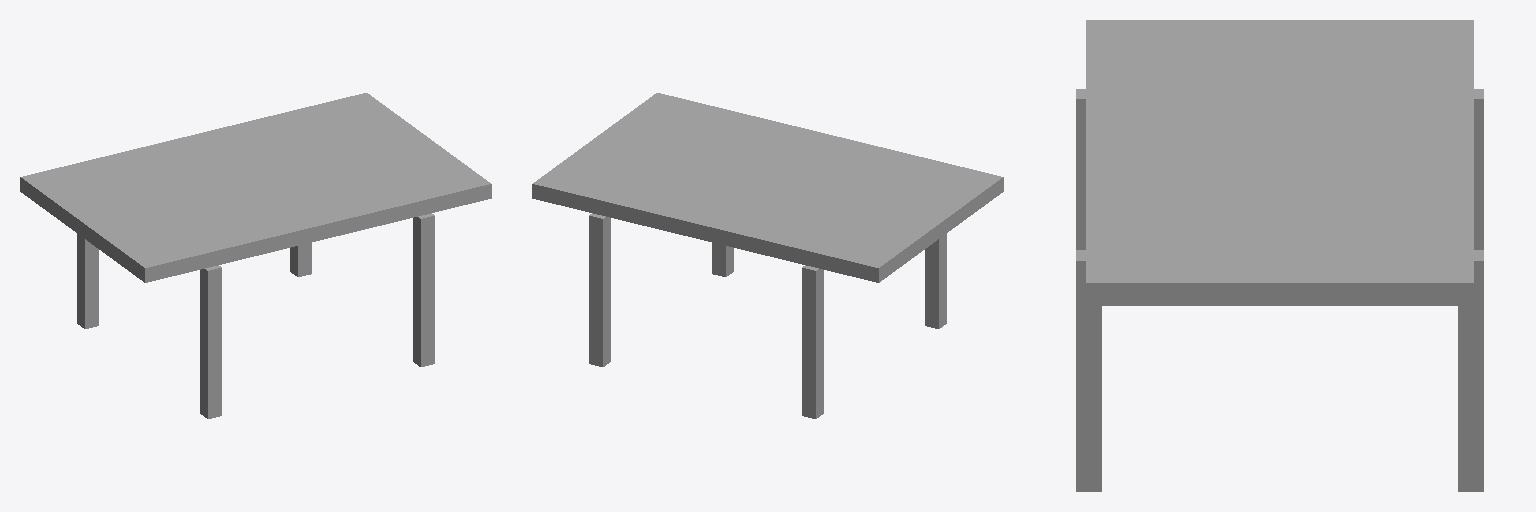
The robot description file, URDF, robot "table":
<?xml version='1.0' encoding='UTF-8'?>
<robot xmlns:drake="http://drake.mit.edu" name="table">
  <material name="Brown">
    <color rgba="0.75 0.6 0.5 0.8"/>
  </material>
  <material name="White">
    <color rgba="1 1 1 1"/>
  </material>
  <material name="LightGrey">
    <color rgba=".7 .7 .7 1"/>
  </material>
  <material name="Grey">
    <color rgba=".3 .3 .3 1"/>
  </material>
  <material name="Red">
    <color rgba="1 0 0 1"/>
  </material>

  <link name="TableTop">
    <inertial>
      <mass value=".5"/>
      <origin xyz="0 0 0" rpy="0 0 0"/>
      <inertia ixx="10" ixy="0" ixz="0" iyy="10" iyz="0" izz="10"/>
    </inertial>
    <visual>
      <origin xyz="0 0 -0.025" rpy="0 0 0"/>
      <geometry>
        <box size="1.22 0.761 .05"/>
      </geometry>
      <material name="LightGrey"/>
    </visual>
    <collision>
      <origin xyz="0 0 -0.025" rpy="0 0 0"/>
      <geometry>
        <box size="1.22 0.761 .05"/>
      </geometry>
      <material name="LightGrey"/>
      <drake:proximity_properties>
        <drake:rigid_hydroelastic/>
        <drake:hunt_crossley_dissipation value="1.25"/>
        <drake:mesh_resolution_hint value="0.005"/>
        <!-- Both mu_dynamic and mu_static are used in Continuous system.
          Only mu_dynamic is used in Discrete system.
        -->
        <drake:mu_dynamic value="0.5"/>
        <drake:mu_static value="0.5"/>
      </drake:proximity_properties>
    </collision>    
  </link>

  <link name="tableLegUL">
    <inertial>
      <mass value=".5"/>
      <origin xyz="0 0 0" rpy="0 0 0"/>
      <inertia ixx="10" ixy="0" ixz="0" iyy="10" iyz="0" izz="10"/>
    </inertial>
    <visual>
      <origin xyz="0 0 -0.25" rpy="0 0 0"/>
      <geometry>
        <box size=".05 .05 .5"/>
      </geometry>
      <material name="LightGrey"/>
    </visual>
    <collision>
      <origin xyz="0 0 -0.25" rpy="0 0 0"/>
      <geometry>
        <box size=".05 .05 .5"/>
      </geometry>
      <material name="LightGrey"/>
      <drake:proximity_properties>
        <drake:compliant_hydroelastic/>
        <drake:mesh_resolution_hint value="0.005"/>
        <drake:hydroelastic_modulus value="1e5"/>
        <drake:hunt_crossley_dissipation value="1.0"/>
        <drake:mesh_resolution_hint value="0.005"/>
        <!-- Both mu_dynamic and mu_static are used in Continuous system.
          Only mu_dynamic is used in Discrete system.
        -->
        <drake:mu_dynamic value="0.5"/>
        <drake:mu_static value="0.5"/>
      </drake:proximity_properties>
    </collision>
  </link>

  <link name="tableLegUR">
    <inertial>
      <mass value=".5"/>
      <origin xyz="0 0 0" rpy="0 0 0"/>
      <inertia ixx="10" ixy="0" ixz="0" iyy="10" iyz="0" izz="10"/>
    </inertial>
    <visual>
      <origin xyz="0 0 -0.25" rpy="0 0 0"/>
      <geometry>
        <box size=".05 .05 .5"/>
      </geometry>
      <material name="LightGrey"/>
    </visual>
    <collision>
      <origin xyz="0 0 -0.25" rpy="0 0 0"/>
      <geometry>
        <box size=".05 .05 .5"/>
      </geometry>
      <material name="LightGrey"/>
      <drake:proximity_properties>
        <drake:compliant_hydroelastic/>
        <drake:mesh_resolution_hint value="0.005"/>
        <drake:hydroelastic_modulus value="1e5"/>
        <drake:hunt_crossley_dissipation value="1.0"/>
        <drake:mesh_resolution_hint value="0.005"/>
        <!-- Both mu_dynamic and mu_static are used in Continuous system.
          Only mu_dynamic is used in Discrete system.
        -->
        <drake:mu_dynamic value="0.5"/>
        <drake:mu_static value="0.5"/>
      </drake:proximity_properties>
    </collision>
  </link>

  <link name="tableLegLR">
    <inertial>
      <mass value=".5"/>
      <origin xyz="0 0 0" rpy="0 0 0"/>
      <inertia ixx="10" ixy="0" ixz="0" iyy="10" iyz="0" izz="10"/>
    </inertial>
    <visual>
      <origin xyz="0 0 -.25" rpy="0 0 0"/>
      <geometry>
        <box size=".05 .05 .5"/>
      </geometry>
      <material name="LightGrey"/>
    </visual>
    <collision>
      <origin xyz="0 0 -.25" rpy="0 0 0"/>
      <geometry>
        <box size=".05 .05 .5"/>
      </geometry>
      <material name="LightGrey"/>
      <drake:proximity_properties>
        <drake:compliant_hydroelastic/>
        <drake:mesh_resolution_hint value="0.005"/>
        <drake:hydroelastic_modulus value="1e5"/>
        <drake:hunt_crossley_dissipation value="10.0"/>
        <drake:mesh_resolution_hint value="0.005"/>
        <!-- Both mu_dynamic and mu_static are used in Continuous system.
          Only mu_dynamic is used in Discrete system.
        -->
        <drake:mu_dynamic value="0.5"/>
        <drake:mu_static value="0.5"/>
      </drake:proximity_properties>
    </collision>
  </link>  

  <link name="tableLegLL">
    <inertial>
      <mass value=".5"/>
      <origin xyz="0 0 0" rpy="0 0 0"/>
      <inertia ixx="10" ixy="0" ixz="0" iyy="10" iyz="0" izz="10"/>
    </inertial>
    <visual>
      <origin xyz="0 0 -0.25" rpy="0 0 0"/>
      <geometry>
        <box size=".05 .05 .5"/>
      </geometry>
      <material name="LightGrey"/>
    </visual>
    <collision>
      <origin xyz="0 0 -.25" rpy="0 0 0"/>
      <geometry>
        <box size=".05 .05 .5"/>
      </geometry>
      <material name="LightGrey"/>
      <drake:proximity_properties>
        <drake:compliant_hydroelastic/>
        <drake:mesh_resolution_hint value="0.005"/>
        <drake:hydroelastic_modulus value="1e5"/>
        <drake:hunt_crossley_dissipation value="1.0"/>
        <!-- Both mu_dynamic and mu_static are used in Continuous system.
          Only mu_dynamic is used in Discrete system.
        -->
        <drake:mu_dynamic value="0.5"/>
        <drake:mu_static value="0.5"/>
      </drake:proximity_properties>
    </collision>
  </link>    

  <joint name="TableTopToLegUL" type="fixed">
    <parent link="TableTop"/>
    <child link="tableLegUL"/>
    <origin xyz="0.375 0.375 -.05" rpy="0 0 0"/>
  </joint>

  <joint name="TableTopToLegUR" type="fixed">
    <parent link="TableTop"/>
    <child link="tableLegUR"/>
    <origin xyz="0.375 -0.375 -.05" rpy="0 0 0"/>
  </joint>

  <joint name="TableTopToLegLR" type="fixed">
    <parent link="TableTop"/>
    <child link="tableLegLR"/>
    <origin xyz="-0.375 0.375 -.05" rpy="0 0 0"/>
  </joint>

  <joint name="TableTopToLegLL" type="fixed">
    <parent link="TableTop"/>
    <child link="tableLegLL"/>
    <origin xyz="-0.375 -0.375 -0.05" rpy="0 0 0"/>
  </joint>

</robot>

--- What the picture shows (computed from the rendered views, not written in the file) ---
3 views of the same robot in one strip: view 1: azimuth 30°, elevation 25°; view 2: azimuth 150°, elevation 25°; view 3: azimuth 270°, elevation 25° (orthographic).
Model table with 5 links and 4 joints (4 fixed), rooted at TableTop, posed all joints at 0.
Visible links, largest first — view 1: TableTop, tableLegUR, tableLegLL, tableLegLR, tableLegUL; view 2: TableTop, tableLegUL, tableLegLR, tableLegLL, tableLegUR; view 3: TableTop, tableLegUL, tableLegUR, tableLegLR, tableLegLL.
Link boxes in pixels (x1=…): TableTop: x1=20, y1=93, x2=491, y2=282; tableLegUR: x1=413, y1=213, x2=434, y2=366; tableLegLL: x1=200, y1=265, x2=221, y2=418; tableLegLR: x1=77, y1=234, x2=98, y2=328; tableLegUL: x1=290, y1=243, x2=311, y2=276; TableTop: x1=532, y1=93, x2=1003, y2=282; tableLegUL: x1=589, y1=213, x2=610, y2=366; tableLegLR: x1=802, y1=265, x2=823, y2=418; tableLegLL: x1=925, y1=234, x2=946, y2=328; tableLegUR: x1=712, y1=243, x2=733, y2=276; TableTop: x1=1086, y1=20, x2=1473, y2=305; tableLegUL: x1=1458, y1=250, x2=1483, y2=491; tableLegUR: x1=1076, y1=250, x2=1101, y2=491; tableLegLR: x1=1474, y1=89, x2=1483, y2=249; tableLegLL: x1=1076, y1=89, x2=1085, y2=249.
Size in the robot's own frame: 1.22 by 0.8 by 0.55 metres.
Geometry: primitives only (box / cylinder / sphere), no mesh files.